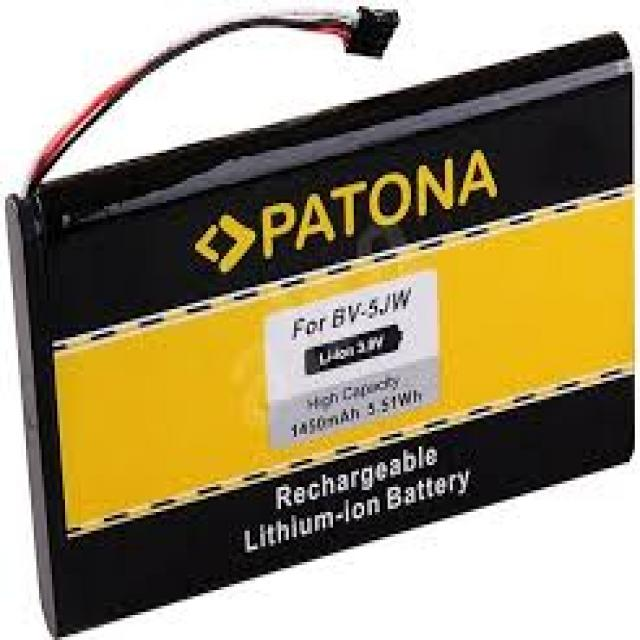non-organic waste: (5, 6, 632, 639)
